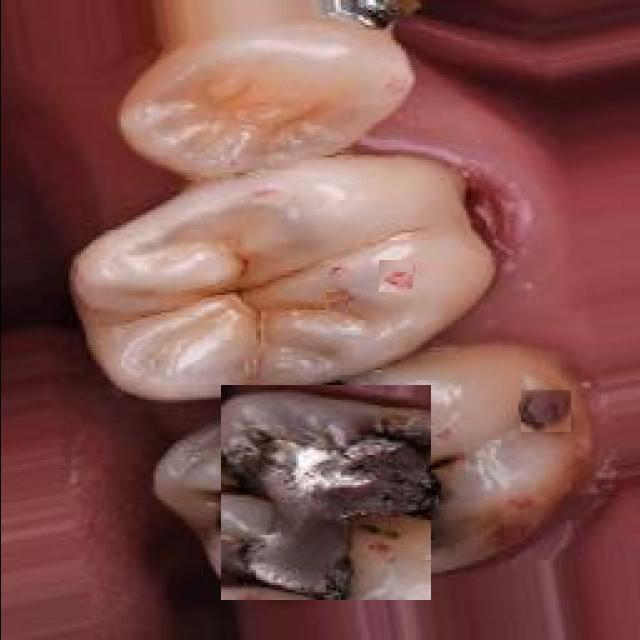caries: (220, 385, 430, 600)
